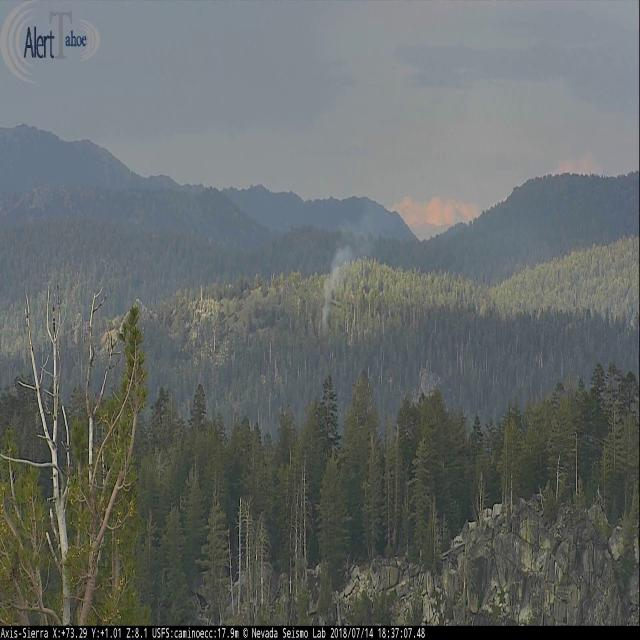smoke: (320, 205, 390, 331)
